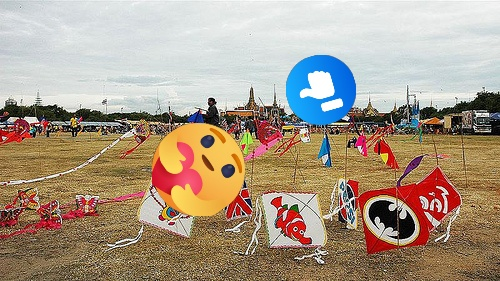care: (152, 123, 245, 216)
like: (286, 55, 356, 125)
